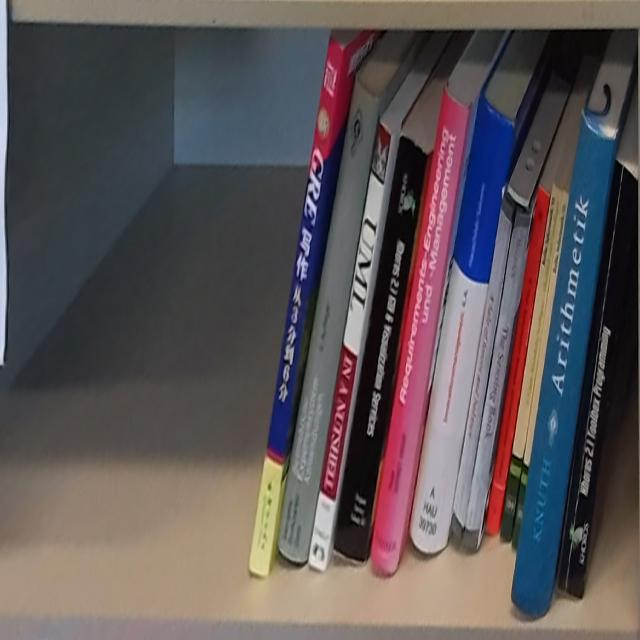Book Spine: (509, 111, 614, 619), (249, 38, 344, 579), (277, 77, 381, 566), (408, 96, 515, 553), (372, 87, 469, 576), (334, 135, 430, 570), (308, 120, 392, 575), (557, 160, 638, 605), (451, 194, 533, 557), (486, 187, 551, 537), (501, 184, 564, 544), (511, 191, 570, 553)
